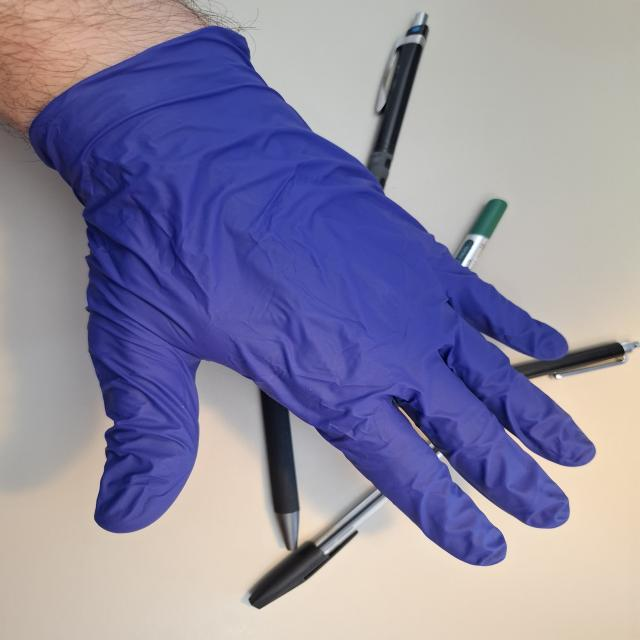glove_on: (25, 29, 599, 569)
